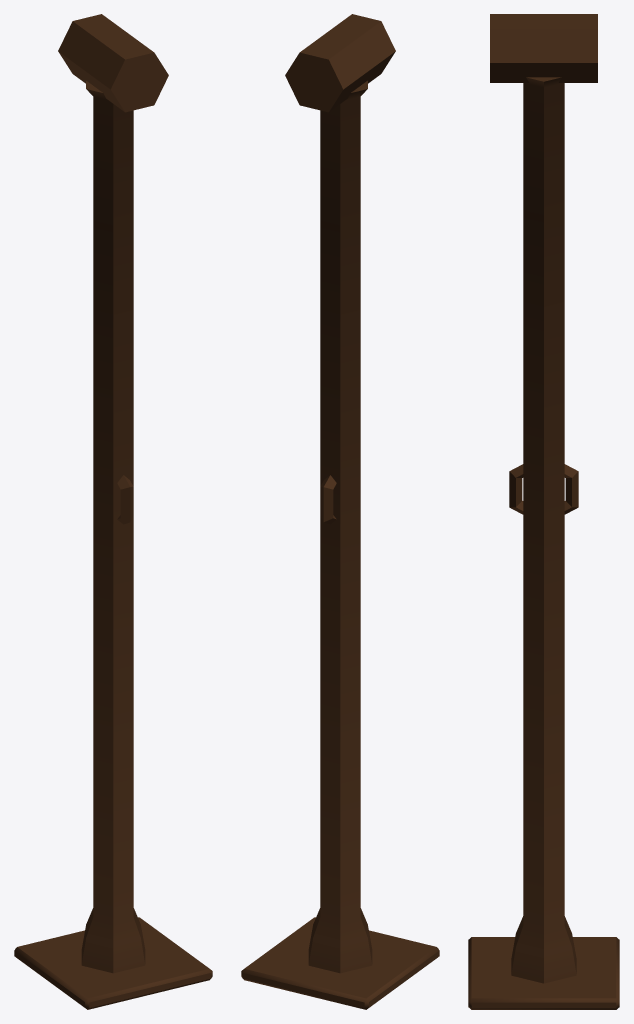
File: rail-stanchion.lod1.glb
3 renders of one model, left to right at view 1: azimuth 30°, elevation 25°; view 2: azimuth 150°, elevation 25°; view 3: azimuth 270°, elevation 25°, orthographic. The views are drawn at different scales.
Visible parts, largest first — view 1: rail_stanchion_Trim • places palette; view 2: rail_stanchion_Trim • places palette; view 3: rail_stanchion_Trim • places palette.
Part boxes in pixels (box(x1,y1,x2,y2)): rail_stanchion_Trim • places palette: box(14, 14, 212, 1009); rail_stanchion_Trim • places palette: box(241, 14, 439, 1009); rail_stanchion_Trim • places palette: box(468, 14, 619, 1009).
Size of the model in its own units: 0.14 by 0.9777 by 0.14.
Materials: 1 (1 with a texture image).
